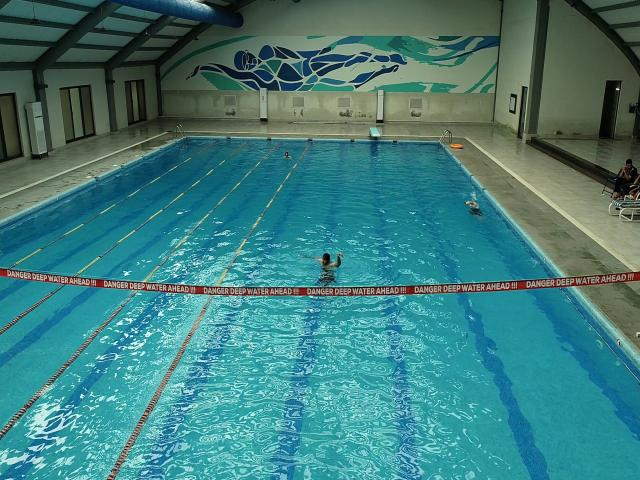out of water: (620, 160, 638, 186)
swimming: (312, 247, 344, 271), (467, 196, 482, 220), (282, 150, 292, 159)
